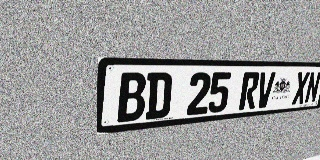2: (187, 72, 212, 115)
5: (208, 72, 231, 113)
B: (117, 73, 147, 122)
D: (145, 72, 173, 120)
N: (304, 72, 320, 104)
R: (239, 72, 260, 110)
V: (255, 72, 276, 108)
X: (292, 72, 310, 105)
